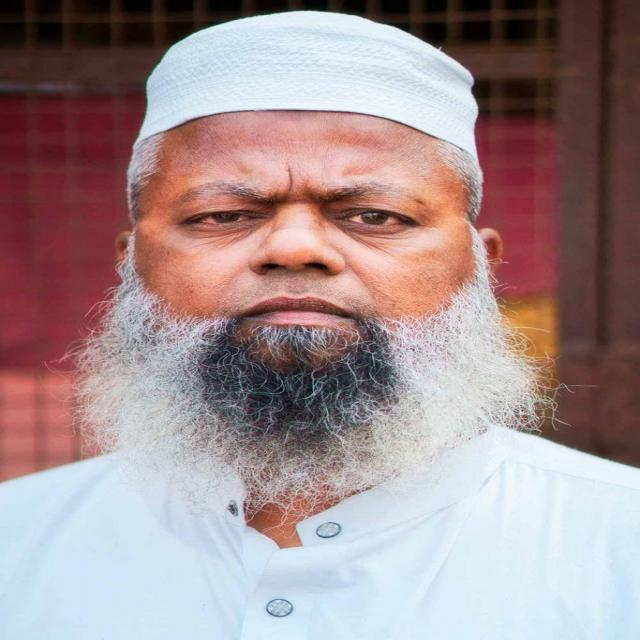beard: (78, 229, 547, 514)
